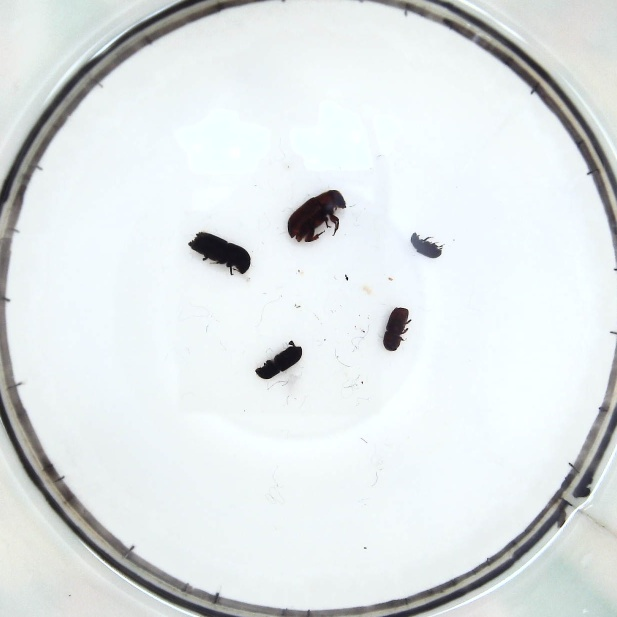armandi: (257, 343, 301, 378)
boerner: (187, 231, 252, 275)
coleoptera: (408, 229, 445, 261)
leconte: (287, 188, 350, 243)
linnaeus: (382, 305, 413, 352)
